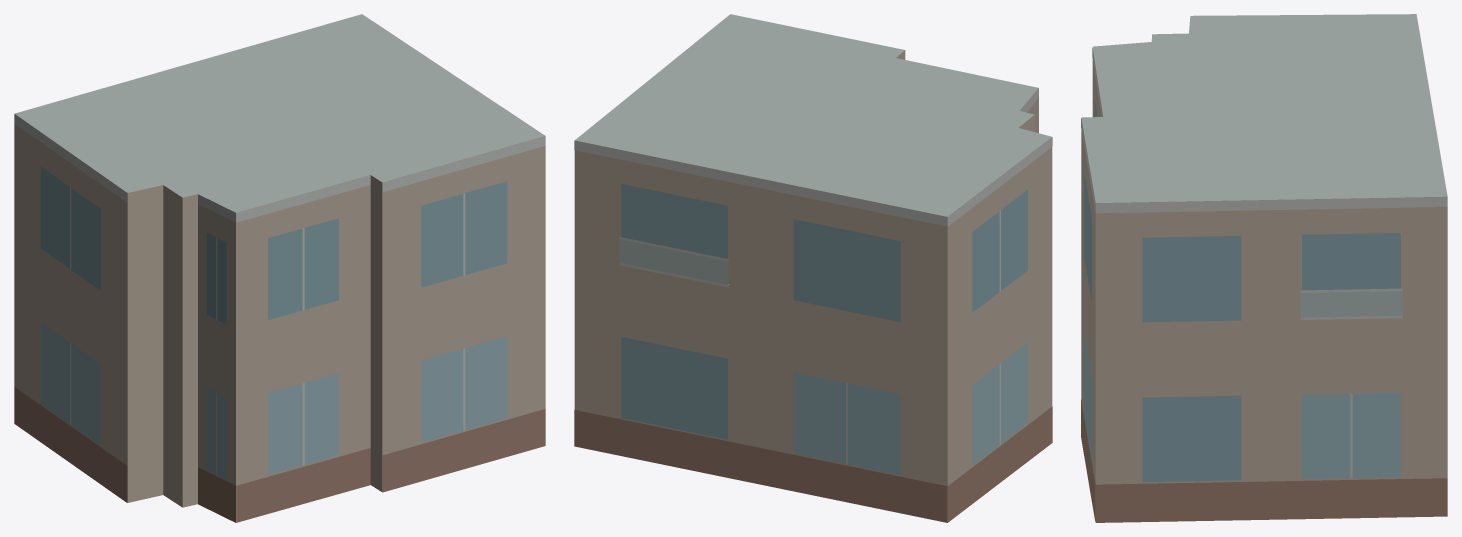
Rendered from survey-upis-33045471.glb.
3 views of the same model, side by side, from view 1: azimuth 30°, elevation 25°; view 2: azimuth 150°, elevation 25°; view 3: azimuth 270°, elevation 25° (orthographic). The views are drawn at different scales.
Parts seen in each view (by area): view 1: survey-upis-33045471.tmp; view 2: survey-upis-33045471.tmp; view 3: survey-upis-33045471.tmp.
Boxes of the visible parts, left/top/right/bottom form: survey-upis-33045471.tmp: left=14, top=14, right=545, bottom=522; survey-upis-33045471.tmp: left=574, top=14, right=1052, bottom=522; survey-upis-33045471.tmp: left=1081, top=14, right=1447, bottom=522.
Size of the model in its own units: 9.65 by 7.6 by 7.9.
